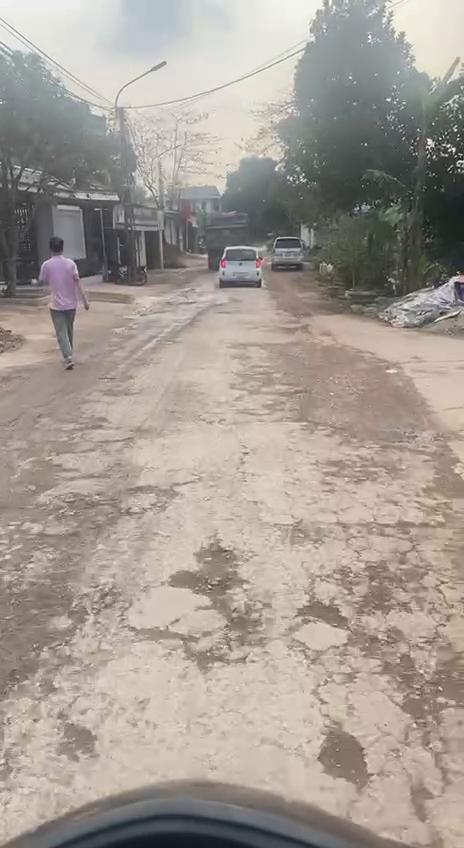pothole: (163, 538, 276, 646), (349, 631, 464, 720), (132, 622, 252, 674), (337, 560, 430, 616), (315, 721, 379, 797), (54, 718, 102, 767), (295, 601, 356, 634)
